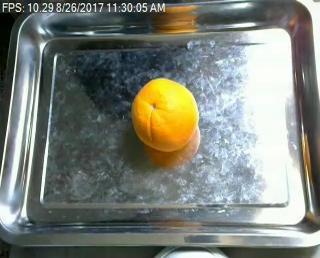Orange: (131, 76, 199, 150)
